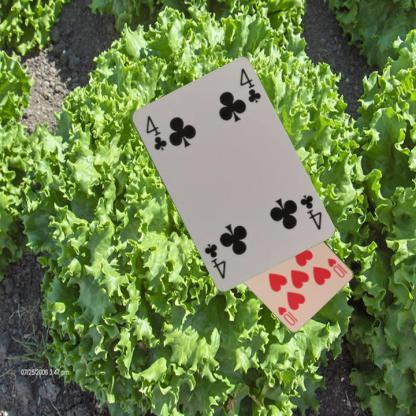10h: (325, 256, 346, 278)
4c: (297, 192, 323, 232), (142, 113, 168, 152)
